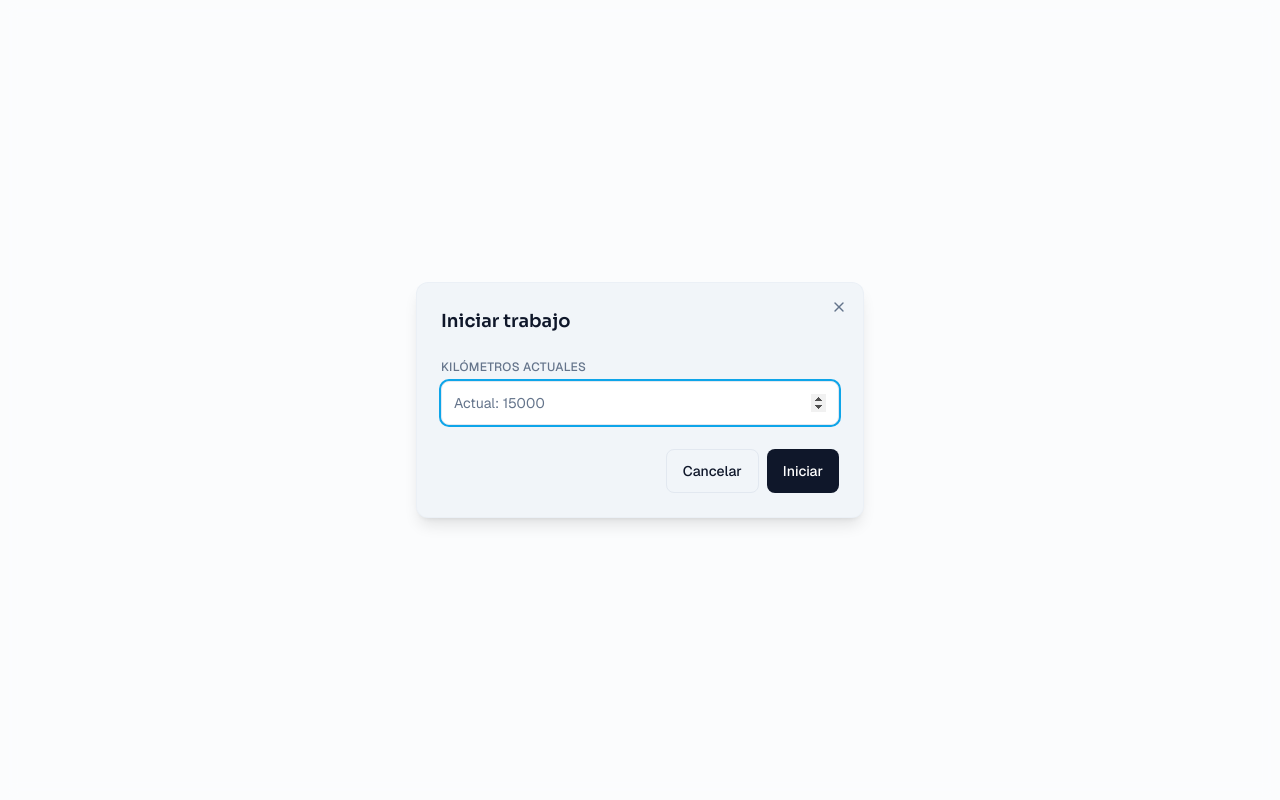
Test: JobUsageValueModal › blocks submission and shows an error when starting with a value below the vehicle's current usage
Type "1" into the number field labelled "Kilómetros actuales".
click(640, 403); type("1")  # box [441, 381, 839, 425]
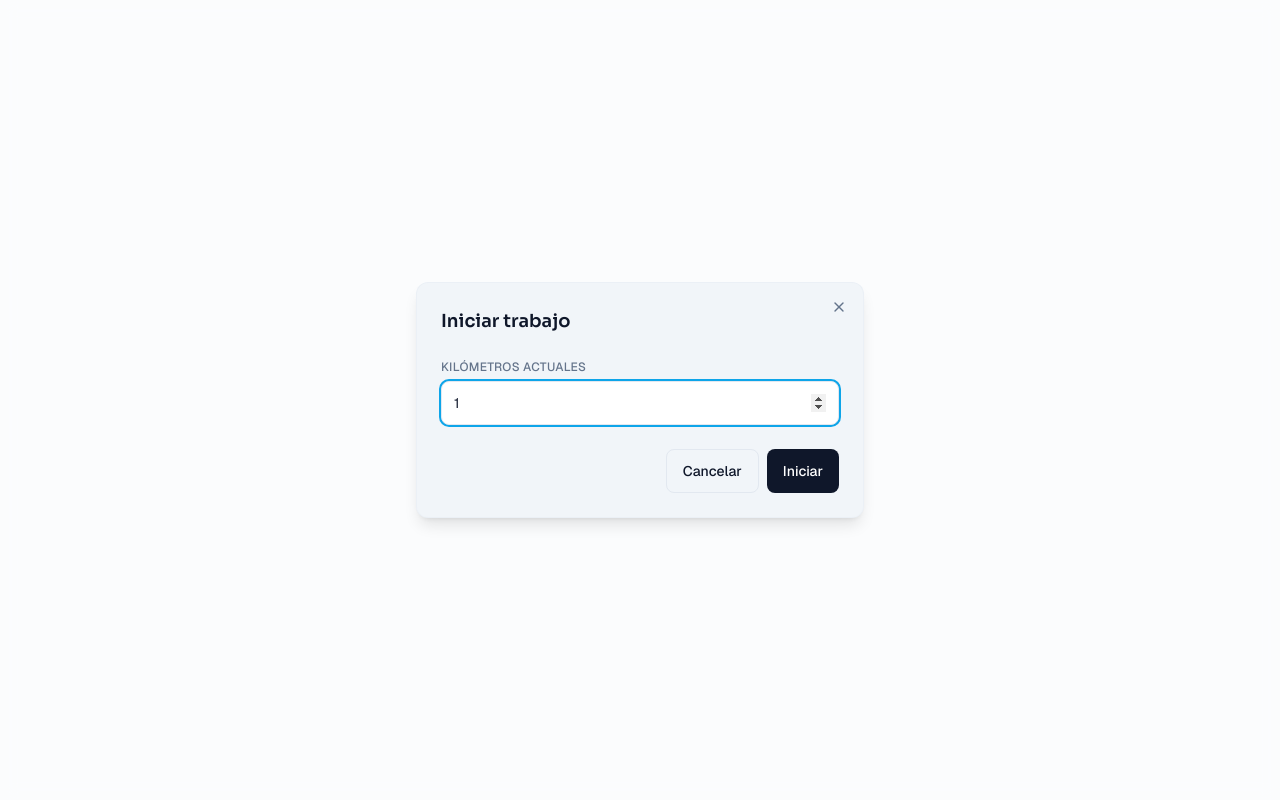
Click the button "Iniciar".
click(803, 471)  # box [767, 449, 839, 493]
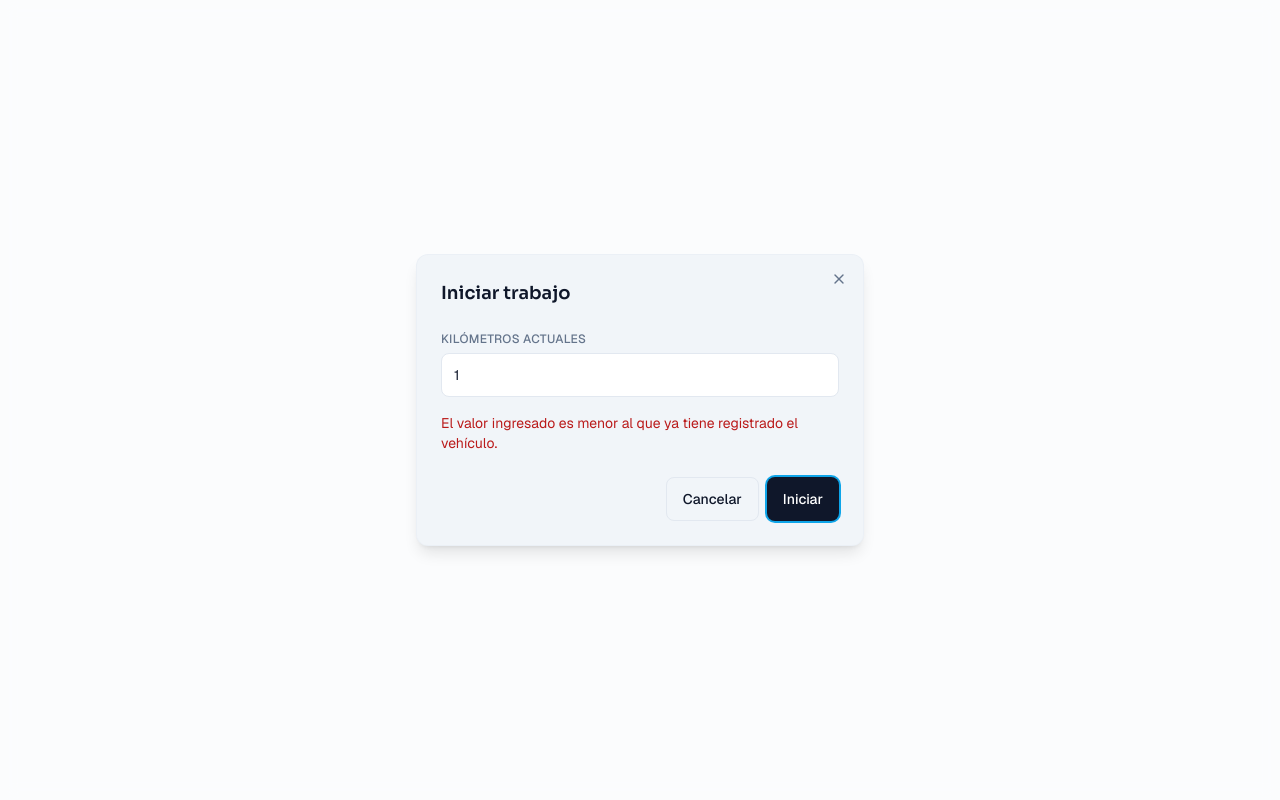
Expected: the message shows "El valor ingresado es menor al que ya tiene registrado el vehículo", [441, 414, 798, 452]
